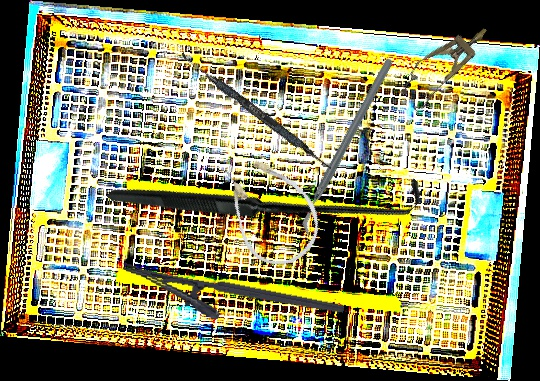Cannula: (207, 140, 334, 279)
Chopper: (249, 56, 446, 239)
Hook Surgical: (106, 33, 429, 355)
Needle Holder: (116, 260, 345, 345)
Spatula Surgical: (176, 51, 336, 172)
Speculum: (391, 13, 500, 116)
